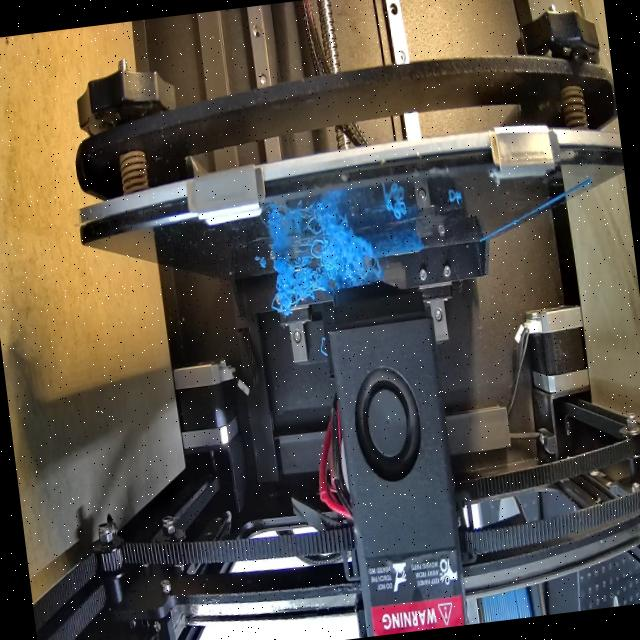spaghetti: (262, 229, 381, 302), (387, 198, 414, 224)
